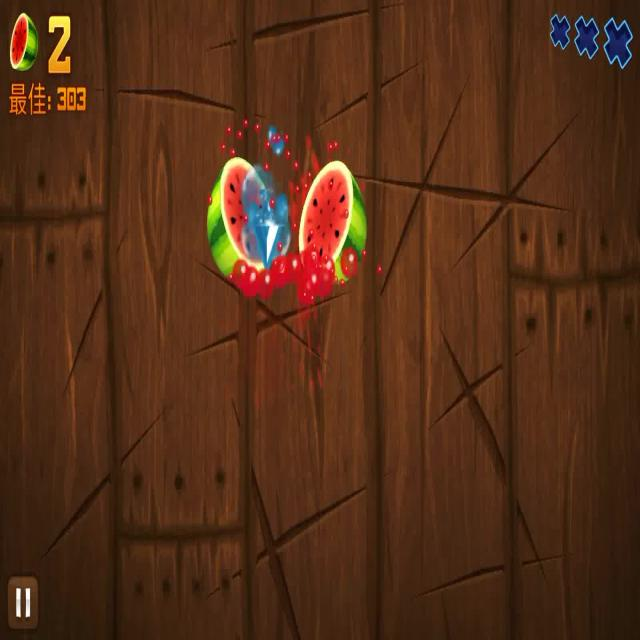fruit: (204, 142, 374, 287)
